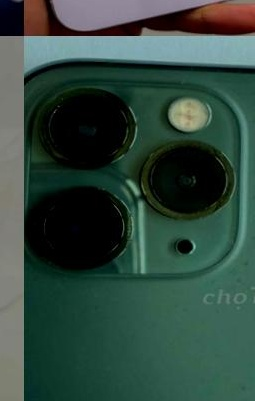scratch: (24, 67, 225, 268)
